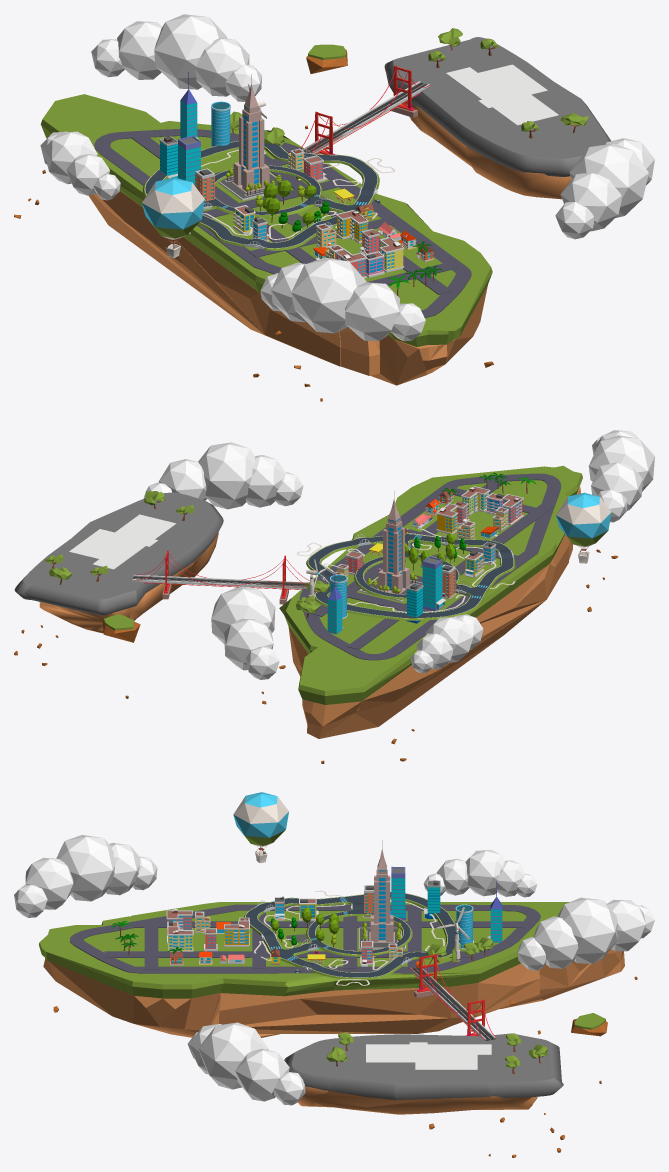
The model's file is AMERACAS_custom.fbx.
3 views of the same model, one above another, from view 1: azimuth 30°, elevation 25°; view 2: azimuth 150°, elevation 25°; view 3: azimuth 270°, elevation 25° (orthographic). The views are drawn at different scales.
Parts seen in each view (by area): view 1: plane1__7E9E39, plane__7E9E39, bottom__866E54, road__666666, Eco_City_Road, Eco_City_Baloon013, Line068, Eco_City_Baloon003, bottom_2__866E54, Eco_City_Baloon, Eco_City_Baloon018, Bridge (+20 smaller); view 2: plane1__7E9E39, plane__7E9E39, bottom__866E54, road__666666, Eco_City_Road, Eco_City_Baloon018, Line068, Eco_City_Baloon, bottom_2__866E54, Eco_City_Baloon003, Bridge, Eco_City_Baloon013 (+17 smaller); view 3: bottom__866E54, plane1__7E9E39, plane__7E9E39, road__666666, Eco_City_Road, bottom_2__866E54, Eco_City_Baloon013, Line068, Eco_City_Baloon003, Eco_City_Baloon018, Eco_City_Baloon, Eco_City_Baloon019 (+20 smaller).
Boxes of the visible parts, <box> form: plane1__7E9E39: <box>40,94,492,346</box>; plane__7E9E39: <box>384,37,610,176</box>; bottom__866E54: <box>46,137,487,385</box>; road__666666: <box>94,129,471,317</box>; Eco_City_Road: <box>142,140,394,250</box>; Eco_City_Baloon013: <box>291,257,366,333</box>; Line068: <box>446,64,558,125</box>; Eco_City_Baloon003: <box>154,14,226,89</box>; bottom_2__866E54: <box>402,102,571,199</box>; Eco_City_Baloon: <box>142,177,204,258</box>; Eco_City_Baloon018: <box>569,143,648,217</box>; Bridge: <box>300,65,430,154</box>; plane1__7E9E39: <box>279,465,582,704</box>; plane__7E9E39: <box>14,492,223,615</box>; bottom__866E54: <box>288,487,580,738</box>; road__666666: <box>299,473,561,660</box>; Eco_City_Road: <box>297,528,515,620</box>; Eco_City_Baloon018: <box>198,442,255,509</box>; Line068: <box>69,514,176,569</box>; Eco_City_Baloon: <box>556,492,611,563</box>; bottom_2__866E54: <box>39,532,218,633</box>; Eco_City_Baloon003: <box>211,587,275,644</box>; Bridge: <box>132,550,309,604</box>; Eco_City_Baloon013: <box>588,435,654,491</box>; bottom__866E54: <box>43,949,624,1037</box>; plane1__7E9E39: <box>39,902,569,998</box>; plane__7E9E39: <box>284,1033,563,1099</box>; road__666666: <box>70,904,540,973</box>; Eco_City_Road: <box>244,890,461,985</box>; bottom_2__866E54: <box>298,1086,537,1114</box>; Eco_City_Baloon013: <box>56,834,114,901</box>; Line068: <box>366,1042,491,1069</box>; Eco_City_Baloon003: <box>557,897,617,963</box>; Eco_City_Baloon018: <box>198,1022,268,1089</box>; Eco_City_Baloon: <box>233,792,288,862</box>; Eco_City_Baloon019: <box>235,1048,289,1101</box>.
Bounding box in the file's own units: 134 × 51.29 × 162.
16 materials, 10 textured.
